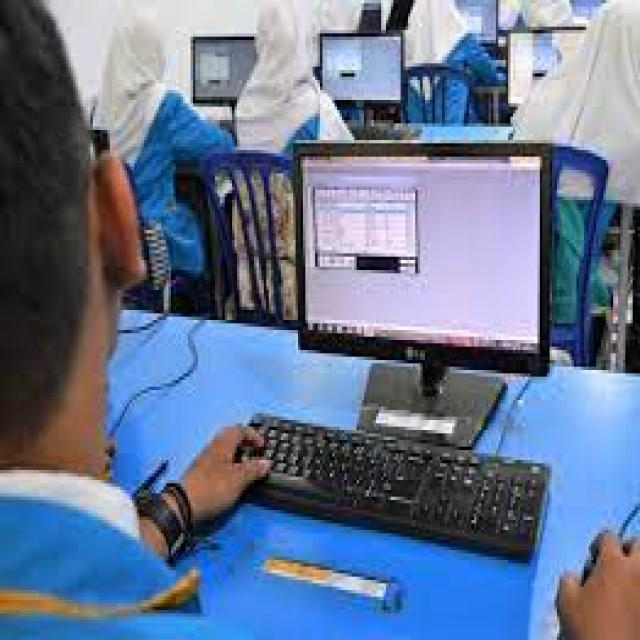komputer: (293, 133, 556, 455)
